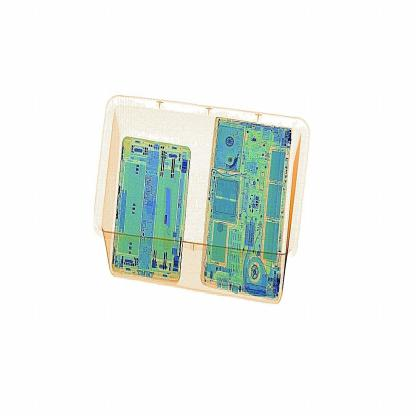pliers: (158, 180, 178, 254)
